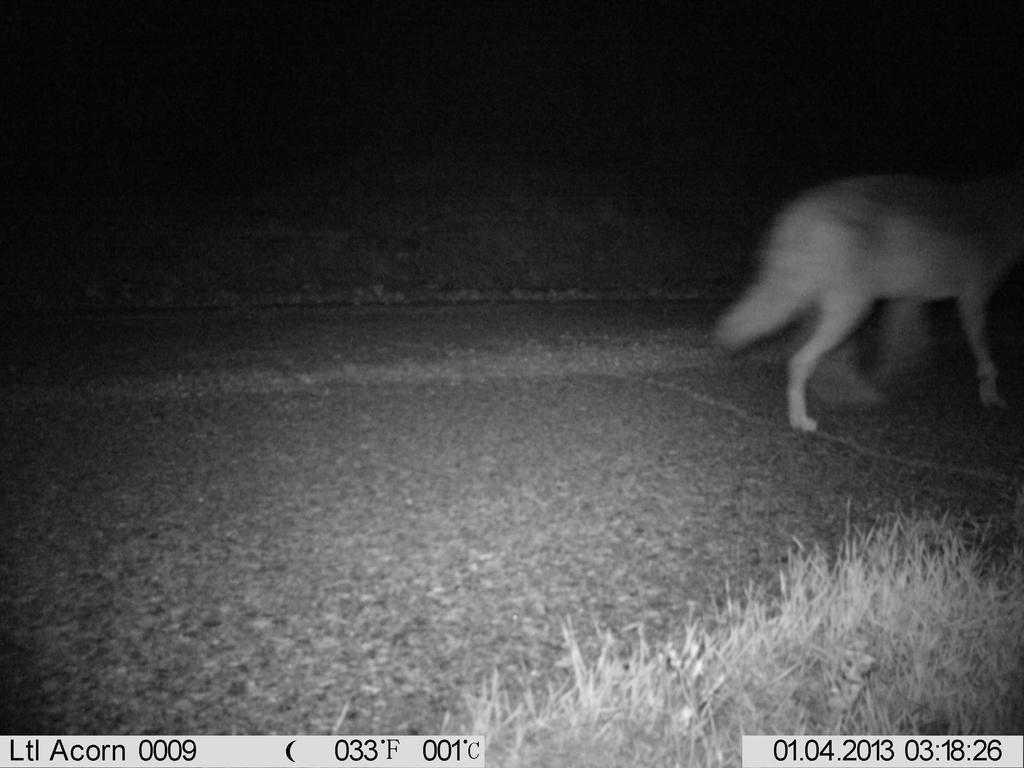coyote: (715, 151, 1022, 438)
